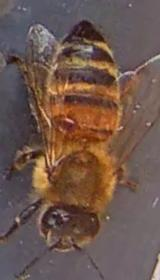varroa_mite: (44, 101, 88, 146)
